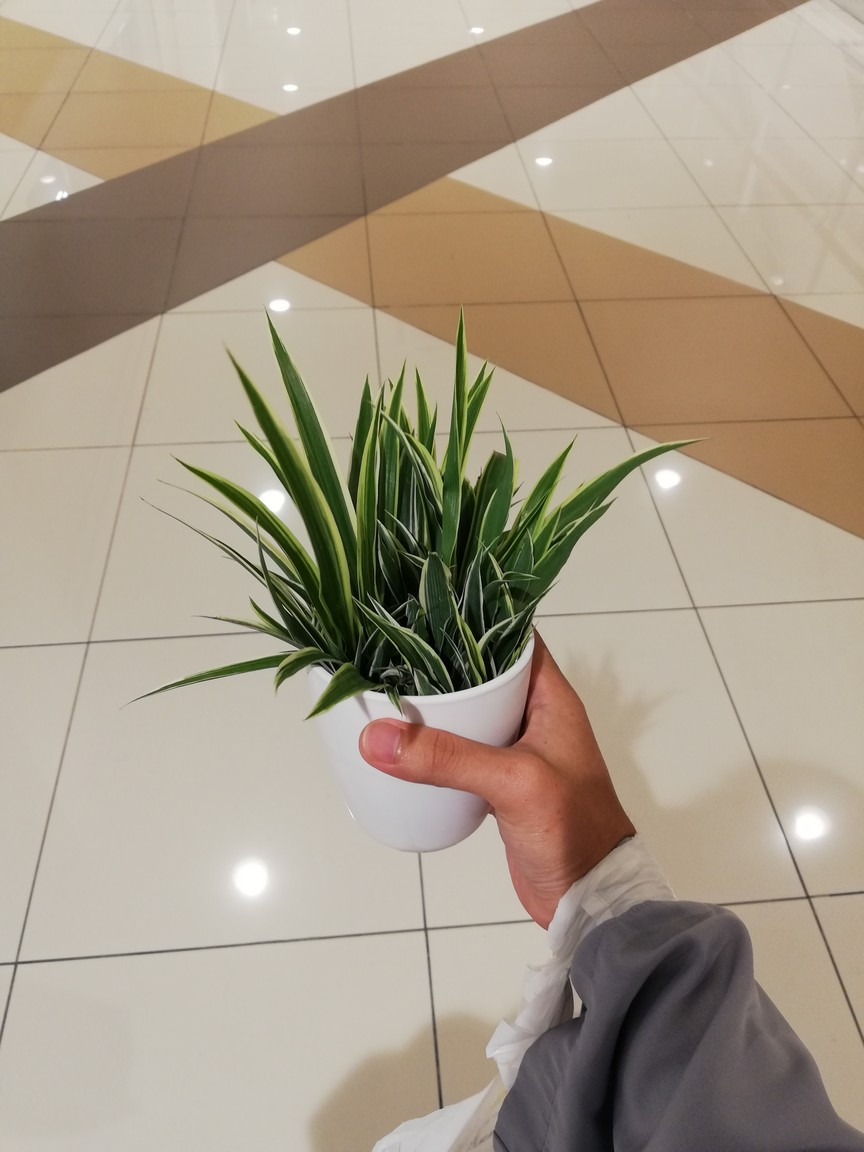daun: (263, 301, 329, 472), (117, 653, 270, 711), (598, 437, 712, 495), (219, 344, 270, 449), (139, 496, 221, 550), (171, 452, 243, 505), (303, 663, 348, 734), (156, 477, 229, 519), (233, 416, 279, 475), (460, 540, 486, 616), (273, 646, 313, 695), (546, 429, 578, 480), (453, 300, 468, 399), (185, 612, 254, 632), (414, 362, 432, 434), (591, 492, 622, 529), (384, 509, 414, 546), (495, 408, 517, 457), (392, 355, 408, 422), (363, 590, 396, 622), (437, 627, 461, 667), (349, 594, 377, 625), (546, 500, 564, 545), (358, 369, 373, 420), (246, 593, 270, 624), (425, 397, 437, 454), (385, 691, 405, 720), (395, 551, 424, 570), (497, 569, 543, 580), (472, 355, 489, 383), (482, 363, 497, 389), (510, 496, 529, 511), (512, 478, 527, 496), (387, 375, 396, 395), (574, 477, 586, 491)
